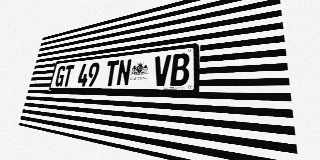4: (77, 63, 90, 86)
9: (86, 62, 100, 86)
B: (170, 53, 190, 86)
G: (54, 66, 66, 86)
N: (116, 59, 132, 86)
T: (104, 60, 119, 86), (62, 65, 74, 86)
V: (153, 55, 171, 86)
